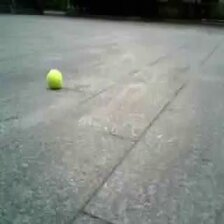tennis: (47, 70, 62, 86)
